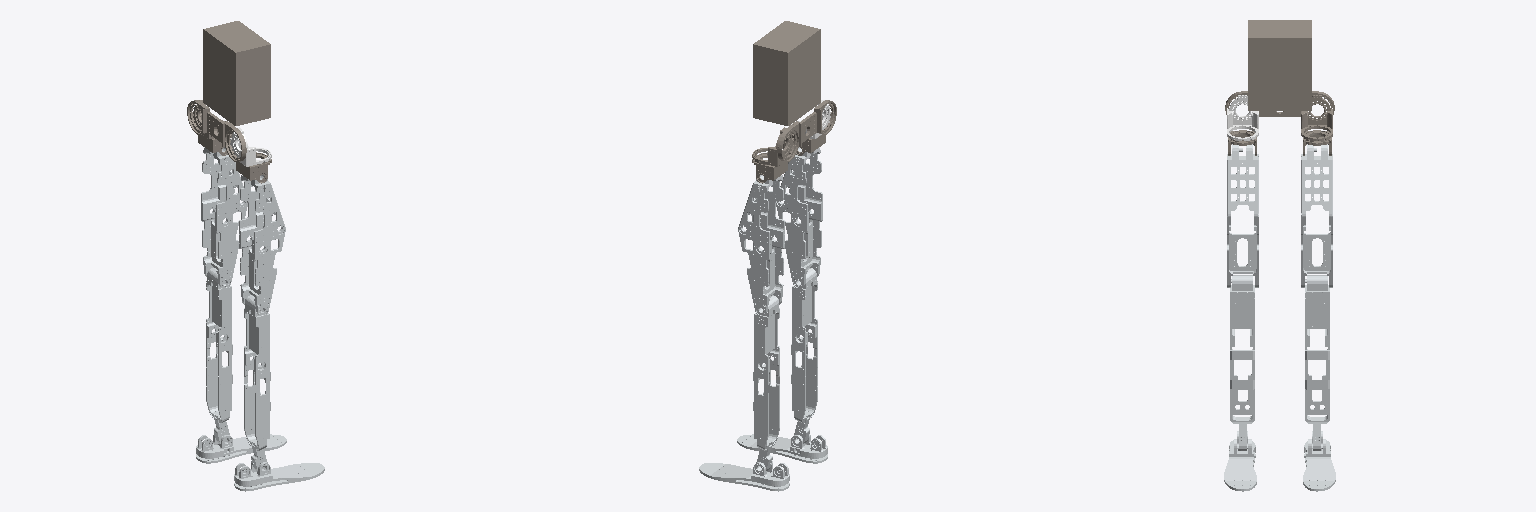
robot.urdf — b1:
<?xml version="1.0" encoding="utf-8"?>
<!-- This URDF was automatically created by SolidWorks to URDF Exporter! Originally created by [author] ([email redacted]) 
     Commit Version: 1.5.1-0-g916b5db  Build Version: 1.5.7152.31018
     For more information, please see http://wiki.ros.org/sw_urdf_exporter -->
<robot
  name="b1">
  <link
    name="base_link">
    <inertial>
      <origin
        xyz="-0.00058348 -3.6892E-07 0.098631"
        rpy="0 0 0" />
      <mass
        value="25.4" />
      <inertia
        ixx="0.13869"
        ixy="1.1602E-08"
        ixz="1.1583E-06"
        iyy="0.10486"
        iyz="3.1009E-07"
        izz="0.075742" />
    </inertial>
    <visual>
      <origin
        xyz="0 0 0"
        rpy="0 0 0" />
      <geometry>
        <mesh
          filename="../meshes/base_link.STL" />
      </geometry>
      <material
        name="">
        <color
          rgba="0.65098 0.61961 0.58824 1" />
      </material>
    </visual>
    <collision>
      <origin
        xyz="0 0 0"
        rpy="0 0 0" />
      <geometry>
        <mesh
          filename="../meshes/base_link.STL" />
      </geometry>
    </collision>
  </link>
  <link
    name="ll1">
    <inertial>
      <origin
        xyz="0.0203 0.0203 -0.021882"
        rpy="0 0 0" />
      <mass
        value="1.73" />
      <inertia
        ixx="0.00064365"
        ixy="-1.4079E-10"
        ixz="7.1641E-05"
        iyy="0.00040381"
        iyz="1.47E-10"
        izz="0.00057925" />
    </inertial>
    <visual>
      <origin
        xyz="0 0 0"
        rpy="0 0 0" />
      <geometry>
        <mesh
          filename="../meshes/ll1.STL" />
      </geometry>
      <material
        name="">
        <color
          rgba="0.65098 0.61961 0.58824 1" />
      </material>
    </visual>
    <collision>
      <origin
        xyz="0 0 0"
        rpy="0 0 0" />
      <geometry>
        <mesh
          filename="../meshes/ll1.STL" />
      </geometry>
    </collision>
  </link>
  <joint
    name="left_leg_hip_roll"
    type="revolute">
    <origin
      xyz="-0.055306 0.0925 -0.043"
      rpy="0 0 0" />
    <parent
      link="base_link" />
    <child
      link="ll1" />
    <axis
      xyz="-1 0 0" />
    <limit
      lower="-1.57"
      upper="0.17"
      effort="60"
      velocity="3.14" />
  </joint>
  <link
    name="ll2">
    <inertial>
      <origin
        xyz="-0.011966 -9.5758E-09 -0.023875"
        rpy="0 0 0" />
      <mass
        value="0.55" />
      <inertia
        ixx="0.00030663"
        ixy="-2.1702E-11"
        ixz="-2.2996E-05"
        iyy="0.00020556"
        iyz="-4.7854E-11"
        izz="0.00040354" />
    </inertial>
    <visual>
      <origin
        xyz="0 0 0"
        rpy="0 0 0" />
      <geometry>
        <mesh
          filename="../meshes/ll2.STL" />
      </geometry>
      <material
        name="">
        <color
          rgba="0.65098 0.61961 0.58824 1" />
      </material>
    </visual>
    <collision>
      <origin
        xyz="0 0 0"
        rpy="0 0 0" />
      <geometry>
        <mesh
          filename="../meshes/ll2.STL" />
      </geometry>
    </collision>
  </link>
  <joint
    name="left_leg_hip_yaw"
    type="revolute">
    <origin
      xyz="0.0540088169698284 0 -0.0425"
      rpy="0 0 0" />
    <parent
      link="ll1" />
    <child
      link="ll2" />
    <axis
      xyz="0 0 1" />
    <limit
      lower="-0.79"
      upper="0.79"
      effort="33"
      velocity="3.14" />
  </joint>
  <link
    name="ll3">
    <inertial>
      <origin
        xyz="0.01087 -4.44E-05 -0.18406"
        rpy="0 0 0" />
      <mass
        value="5.049" />
      <inertia
        ixx="0.23235"
        ixy="3E-06"
        ixz="-0.02299"
        iyy="0.23924"
        iyz="-2E-05"
        izz="0.011741" />
    </inertial>
    <visual>
      <origin
        xyz="0 0 0"
        rpy="0 0 0" />
      <geometry>
        <mesh
          filename="../meshes/ll3.STL" />
      </geometry>
      <material
        name="">
        <color
          rgba="0.89804 0.91765 0.92941 1" />
      </material>
    </visual>
    <collision>
      <origin
        xyz="0 0 0"
        rpy="0 0 0" />
      <geometry>
        <mesh
          filename="../meshes/ll3.STL" />
      </geometry>
    </collision>
  </link>
  <joint
    name="left_leg_hip_pitch"
    type="revolute">
    <origin
      xyz="0 0 -0.0455"
      rpy="0 0 0" />
    <parent
      link="ll2" />
    <child
      link="ll3" />
    <axis
      xyz="0 -1 0" />
    <limit
      lower="-1.4"
      upper="0.34"
      effort="300"
      velocity="3.14" />
  </joint>
  <link
    name="ll4">
    <inertial>
      <origin
        xyz="-0.0029 -0.00028 -0.231"
        rpy="0 0 0" />
      <mass
        value="1.993" />
      <inertia
        ixx="0.13785"
        ixy="1.1E-06"
        ixz="0.002653"
        iyy="0.13792"
        iyz="1E-05"
        izz="0.001226" />
    </inertial>
    <visual>
      <origin
        xyz="0 0 0"
        rpy="0 0 0" />
      <geometry>
        <mesh
          filename="../meshes/ll4.STL" />
      </geometry>
      <material
        name="">
        <color
          rgba="0.89804 0.91765 0.92941 1" />
      </material>
    </visual>
    <collision>
      <origin
        xyz="0 0 0"
        rpy="0 0 0" />
      <geometry>
        <mesh
          filename="../meshes/ll4.STL" />
      </geometry>
    </collision>
  </link>
  <joint
    name="left_knee"
    type="revolute">
    <origin
      xyz="0 0 -0.3596"
      rpy="0 0 0" />
    <parent
      link="ll3" />
    <child
      link="ll4" />
    <axis
      xyz="0 1 0" />
    <limit
      lower="0"
      upper="1.4"
      effort="300"
      velocity="3.14" />
  </joint>
  <link
    name="ll5">
    <inertial>
      <origin
        xyz="0.0296 -0.002 -0.034"
        rpy="0 0 0" />
      <mass
        value="1.118" />
      <inertia
        ixx="0.000587"
        ixy="-5E-05"
        ixz="-0.000397"
        iyy="0.005066"
        iyz="8.3E-05"
        izz="0.00537" />
    </inertial>
    <visual>
      <origin
        xyz="0 0 0"
        rpy="0 0 0" />
      <geometry>
        <mesh
          filename="../meshes/ll5.STL" />
      </geometry>
      <material
        name="">
        <color
          rgba="0.89804 0.91765 0.92941 1" />
      </material>
    </visual>
    <collision>
      <origin
        xyz="0 0 0"
        rpy="0 0 0" />
      <geometry>
        <mesh
          filename="../meshes/ll5.STL" />
      </geometry>
    </collision>
  </link>
  <joint
    name="left_leg_ank_pitch"
    type="revolute">
    <origin
      xyz="0.015 0 -0.44"
      rpy="0 0 0" />
    <parent
      link="ll4" />
    <child
      link="ll5" />
    <axis
      xyz="0 1 0" />
    <limit
      lower="-0.87"
      upper="0.87"
      effort="50"
      velocity="3.14" />
  </joint>
  <link
    name="rl1">
    <inertial>
      <origin
        xyz="0.0203 0.0203 -0.021882"
        rpy="0 0 0" />
      <mass
        value="1.73" />
      <inertia
        ixx="0.00064365"
        ixy="-1.4079E-10"
        ixz="7.1641E-05"
        iyy="0.00040381"
        iyz="1.47E-10"
        izz="0.00057925" />
    </inertial>
    <visual>
      <origin
        xyz="0 0 0"
        rpy="0 0 0" />
      <geometry>
        <mesh
          filename="../meshes/rl1.STL" />
      </geometry>
      <material
        name="">
        <color
          rgba="1 1 1 1" />
      </material>
    </visual>
    <collision>
      <origin
        xyz="0 0 0"
        rpy="0 0 0" />
      <geometry>
        <mesh
          filename="../meshes/rl1.STL" />
      </geometry>
    </collision>
  </link>
  <joint
    name="right_leg_hip_roll"
    type="revolute">
    <origin
      xyz="-0.0553058169698284 -0.0925 -0.043"
      rpy="0 0 0" />
    <parent
      link="base_link" />
    <child
      link="rl1" />
    <axis
      xyz="-1 0 0" />
    <limit
      lower="-0.17"
      upper="1.57"
      effort="60"
      velocity="3.14" />
  </joint>
  <link
    name="rl2">
    <inertial>
      <origin
        xyz="-0.011966 -9.5758E-09 -0.023875"
        rpy="0 0 0" />
      <mass
        value="0.55" />
      <inertia
        ixx="0.00030663"
        ixy="-2.1702E-11"
        ixz="-2.2996E-05"
        iyy="0.00020556"
        iyz="-4.7854E-11"
        izz="0.00040354" />
    </inertial>
    <visual>
      <origin
        xyz="0 0 0"
        rpy="0 0 0" />
      <geometry>
        <mesh
          filename="../meshes/rl2.STL" />
      </geometry>
      <material
        name="">
        <color
          rgba="0.65098 0.61961 0.58824 1" />
      </material>
    </visual>
    <collision>
      <origin
        xyz="0 0 0"
        rpy="0 0 0" />
      <geometry>
        <mesh
          filename="../meshes/rl2.STL" />
      </geometry>
    </collision>
  </link>
  <joint
    name="right_leg_hip_yaw"
    type="revolute">
    <origin
      xyz="0.0540088169698284 0 -0.0425"
      rpy="0 0 0" />
    <parent
      link="rl1" />
    <child
      link="rl2" />
    <axis
      xyz="0 0 1" />
    <limit
      lower="-0.79"
      upper="0.79"
      effort="33"
      velocity="3.14" />
  </joint>
  <link
    name="rl3">
    <inertial>
      <origin
        xyz="0.01087 -4.44E-05 -0.19733"
        rpy="0 0 0" />
      <mass
        value="5.049" />
      <inertia
        ixx="0.23235"
        ixy="3E-06"
        ixz="-0.02299"
        iyy="0.23924"
        iyz="-2E-05"
        izz="0.011741" />
    </inertial>
    <visual>
      <origin
        xyz="0 0 0"
        rpy="0 0 0" />
      <geometry>
        <mesh
          filename="../meshes/rl3.STL" />
      </geometry>
      <material
        name="">
        <color
          rgba="0.89804 0.91765 0.92941 1" />
      </material>
    </visual>
    <collision>
      <origin
        xyz="0 0 0"
        rpy="0 0 0" />
      <geometry>
        <mesh
          filename="../meshes/rl3.STL" />
      </geometry>
    </collision>
  </link>
  <joint
    name="right_leg_hip_pitch"
    type="revolute">
    <origin
      xyz="0 0 -0.0455000000000001"
      rpy="0 0 0" />
    <parent
      link="rl2" />
    <child
      link="rl3" />
    <axis
      xyz="0 -1 0" />
    <limit
      lower="-1.4"
      upper="0.34"
      effort="300"
      velocity="3.14" />
  </joint>
  <link
    name="rl4">
    <inertial>
      <origin
        xyz="-0.0029 -0.00028 -0.231"
        rpy="0 0 0" />
      <mass
        value="1.993" />
      <inertia
        ixx="0.13785"
        ixy="1.1E-06"
        ixz="0.002653"
        iyy="0.13792"
        iyz="1E-05"
        izz="0.001226" />
    </inertial>
    <visual>
      <origin
        xyz="0 0 0"
        rpy="0 0 0" />
      <geometry>
        <mesh
          filename="../meshes/rl4.STL" />
      </geometry>
      <material
        name="">
        <color
          rgba="0.89804 0.91765 0.92941 1" />
      </material>
    </visual>
    <collision>
      <origin
        xyz="0 0 0"
        rpy="0 0 0" />
      <geometry>
        <mesh
          filename="../meshes/rl4.STL" />
      </geometry>
    </collision>
  </link>
  <joint
    name="right_knee"
    type="revolute">
    <origin
      xyz="0 0 -0.3596"
      rpy="0 0 0" />
    <parent
      link="rl3" />
    <child
      link="rl4" />
    <axis
      xyz="0 1 0" />
    <limit
      lower="0"
      upper="1.4"
      effort="300"
      velocity="3.14" />
  </joint>
  <link
    name="rl5">
    <inertial>
      <origin
        xyz="0.0296 -0.002 -0.034"
        rpy="0 0 0" />
      <mass
        value="1.118" />
      <inertia
        ixx="0.000587"
        ixy="-5E-05"
        ixz="-0.000397"
        iyy="0.005066"
        iyz="8.3E-05"
        izz="0.00537" />
    </inertial>
    <visual>
      <origin
        xyz="0 0 0"
        rpy="0 0 0" />
      <geometry>
        <mesh
          filename="../meshes/rl5.STL" />
      </geometry>
      <material
        name="">
        <color
          rgba="0.89804 0.91765 0.92941 1" />
      </material>
    </visual>
    <collision>
      <origin
        xyz="0 0 0"
        rpy="0 0 0" />
      <geometry>
        <mesh
          filename="../meshes/rl5.STL" />
      </geometry>
    </collision>
  </link>
  <joint
    name="right_leg_ank_pitch"
    type="revolute">
    <origin
      xyz="0.0149999999999999 0 -0.44"
      rpy="0 0 0" />
    <parent
      link="rl4" />
    <child
      link="rl5" />
    <axis
      xyz="0 -1 0" />
    <limit
      lower="-0.87"
      upper="0.87"
      effort="50"
      velocity="3.14" />
  </joint>
</robot>

--- Render facts (derived) ---
The picture shows the robot from 3 angles, left to right: view 1: azimuth 30°, elevation 25°; view 2: azimuth 150°, elevation 25°; view 3: azimuth 270°, elevation 25°; orthographic projection.
Model b1 with 11 links and 10 joints (10 revolute), rooted at base_link, posed all joints at 0.
Visible links, largest first — view 1: base_link, rl3, ll3, rl4, ll4, rl5, ll5, rl1; view 2: base_link, ll3, rl3, ll4, rl4, ll5, rl5, ll1; view 3: base_link, ll4, rl4, ll3, rl3, ll5, rl5, ll1, rl1.
Link boxes in pixels (x1=…): base_link: x1=187, y1=21, x2=270, y2=161; rl3: x1=239, y1=175, x2=285, y2=316; ll3: x1=201, y1=147, x2=247, y2=288; rl4: x1=244, y1=295, x2=270, y2=470; ll4: x1=206, y1=268, x2=232, y2=443; rl5: x1=234, y1=461, x2=324, y2=491; ll5: x1=196, y1=434, x2=286, y2=463; rl1: x1=230, y1=127, x2=271, y2=166; base_link: x1=753, y1=21, x2=836, y2=161; ll3: x1=738, y1=175, x2=784, y2=316; rl3: x1=776, y1=147, x2=822, y2=288; ll4: x1=753, y1=295, x2=779, y2=470; rl4: x1=791, y1=268, x2=817, y2=443; ll5: x1=699, y1=461, x2=789, y2=491; rl5: x1=737, y1=434, x2=827, y2=463; ll1: x1=752, y1=127, x2=793, y2=166; base_link: x1=1225, y1=20, x2=1334, y2=116; ll4: x1=1305, y1=275, x2=1329, y2=450; rl4: x1=1230, y1=275, x2=1254, y2=450; ll3: x1=1301, y1=144, x2=1332, y2=287; rl3: x1=1227, y1=144, x2=1258, y2=287; ll5: x1=1303, y1=431, x2=1335, y2=491; rl5: x1=1224, y1=431, x2=1256, y2=491; ll1: x1=1301, y1=95, x2=1332, y2=140; rl1: x1=1227, y1=95, x2=1258, y2=140.
Size in the robot's own frame: 0.2602 by 0.2786 by 1.18 metres.
Meshes: 11 distinct files referenced, 11 mesh visuals loaded (11 binary STL).